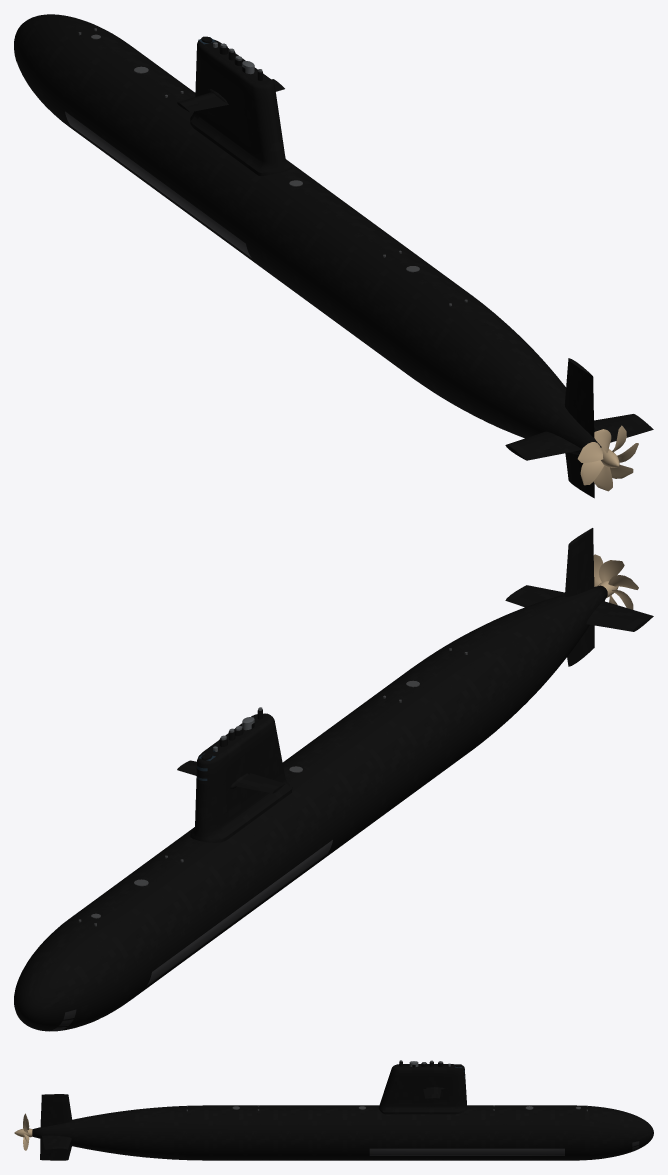
Rendered from sx1-leve.glb.
3 views of the same model, one above another, from view 1: azimuth 30°, elevation 25°; view 2: azimuth 150°, elevation 25°; view 3: azimuth 270°, elevation 25° (orthographic). The views are drawn at different scales.
Parts seen in each view (by area): view 1: SX1_Casco, SX1_Vela, SX1_Helice_Malha, SX1_Casco_SonarFlanco, SX1_LemePopa_Sup_Malha, SX1_LemePopa_BB_Malha, SX1_LemePopa_BE_Malha; view 2: SX1_Casco, SX1_Vela, SX1_Casco_SonarFlanco, SX1_LemePopa_Sup_Malha, SX1_Helice_Malha, SX1_LemePopa_BB_Malha, SX1_LemePopa_BE_Malha; view 3: SX1_Casco, SX1_Vela, SX1_Casco_SonarFlanco, SX1_LemePopa_Sup_Malha, SX1_LemePopa_BE_Malha, SX1_LemePopa_Inf_Malha, SX1_Helice_Malha, SX1_LemeVela_BE_Malha.
Boxes of the visible parts, x1,y1,x2,y2 form: SX1_Casco: [14, 14, 601, 455]; SX1_Vela: [190, 39, 292, 175]; SX1_Helice_Malha: [577, 425, 638, 491]; SX1_Casco_SonarFlanco: [65, 111, 251, 257]; SX1_LemePopa_Sup_Malha: [564, 358, 594, 437]; SX1_LemePopa_BB_Malha: [505, 431, 581, 460]; SX1_LemePopa_BE_Malha: [594, 414, 653, 442]; SX1_Casco: [14, 585, 607, 1031]; SX1_Vela: [190, 713, 292, 842]; SX1_Casco_SonarFlanco: [147, 840, 332, 985]; SX1_LemePopa_Sup_Malha: [565, 528, 594, 596]; SX1_Helice_Malha: [593, 554, 638, 609]; SX1_LemePopa_BB_Malha: [586, 601, 653, 631]; SX1_LemePopa_BE_Malha: [505, 585, 564, 607]; SX1_Casco: [32, 1105, 653, 1160]; SX1_Vela: [378, 1064, 467, 1114]; SX1_Casco_SonarFlanco: [369, 1148, 564, 1155]; SX1_LemePopa_Sup_Malha: [40, 1094, 72, 1127]; SX1_LemePopa_BE_Malha: [42, 1135, 71, 1150]; SX1_LemePopa_Inf_Malha: [40, 1139, 71, 1160]; SX1_Helice_Malha: [14, 1113, 32, 1150]; SX1_LemeVela_BE_Malha: [423, 1088, 441, 1099].
Bounding box in the file's own units: 8.92 × 12.33 × 72.
Materials: 8 (2 with a texture image).
